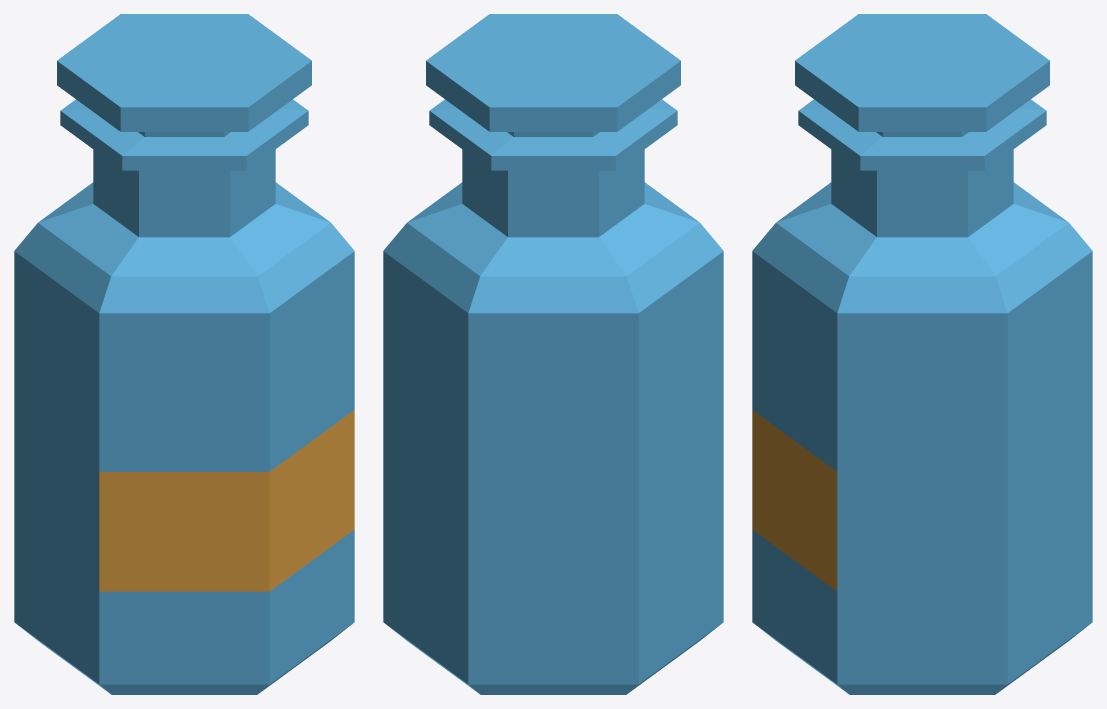
File: SM_Jar_Laboratory_A_Full.fbx
3 renders of one model, left to right at view 1: azimuth 30°, elevation 25°; view 2: azimuth 150°, elevation 25°; view 3: azimuth 270°, elevation 25°, orthographic.
Visible parts, largest first — view 1: jar-laboratory-a-full; view 2: jar-laboratory-a-full; view 3: jar-laboratory-a-full.
Part boxes in pixels (<box>): jar-laboratory-a-full: <box>14,14,354,694</box>; jar-laboratory-a-full: <box>383,14,723,694</box>; jar-laboratory-a-full: <box>752,14,1092,694</box>.
Size of the model in its own units: 0.1382 by 0.3004 by 0.1596.
